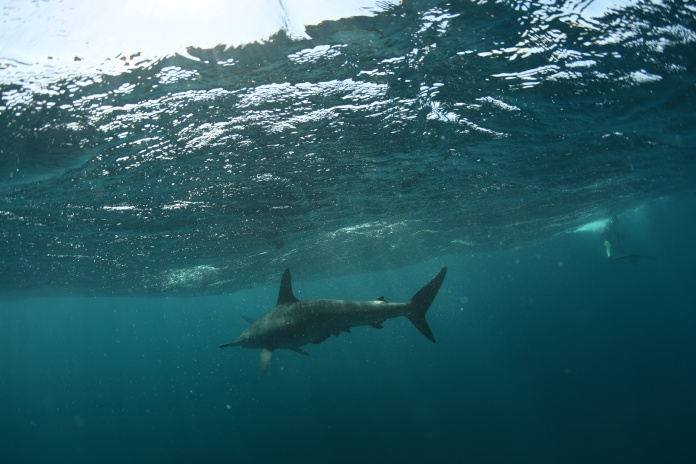Hammer: (196, 249, 491, 401)
